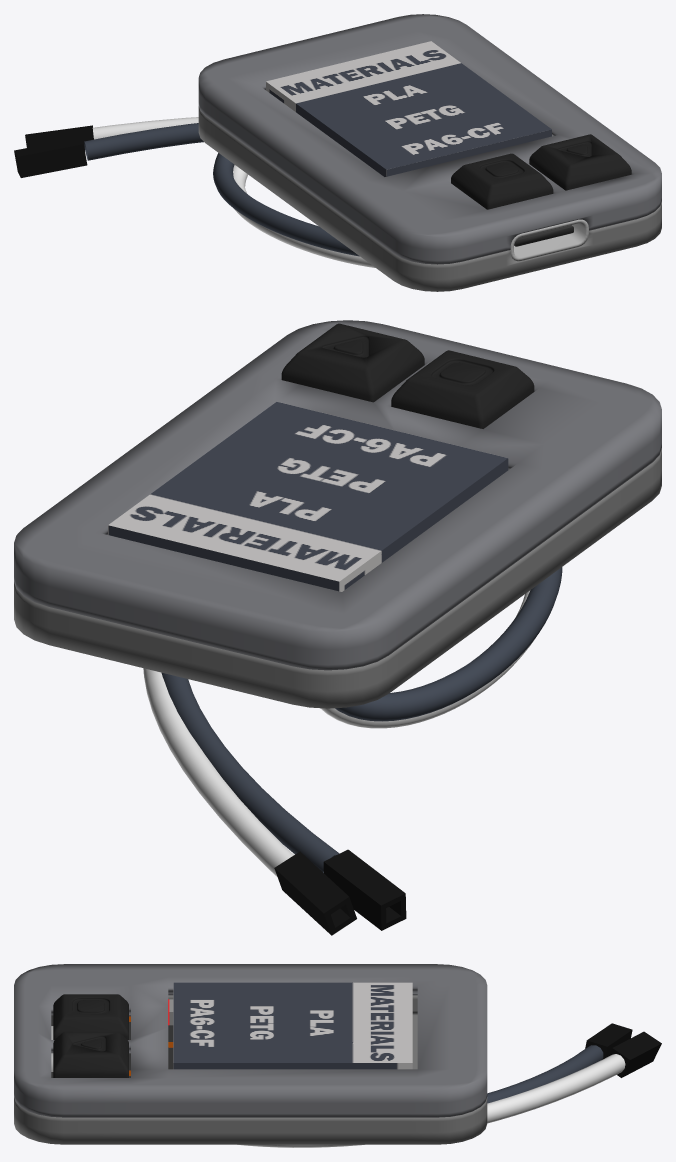
File: miniDevicee.glb
3 views of the same model, one above another, from view 1: azimuth 30°, elevation 25°; view 2: azimuth 150°, elevation 25°; view 3: azimuth 270°, elevation 25° (orthographic). The views are drawn at different scales.
Parts seen in each view (by area): view 1: topCover.001, display, bottomCover, NurbsPath.001, buttomEnter, buttomSelect, NurbsPath, usbC, Cube, Cube.001; view 2: topCover.001, display, bottomCover, NurbsPath.001, NurbsPath, buttomSelect, buttomEnter, Cube, Cube.001; view 3: topCover.001, display, bottomCover, buttomSelect, NurbsPath, buttomEnter, NurbsPath.001, Cube.001, Cube, Cube.002.
Part boxes in pixels (bbox=[...]): topCover.001: bbox=[198, 14, 661, 264]; display: bbox=[266, 41, 551, 176]; bottomCover: bbox=[198, 106, 661, 291]; NurbsPath.001: bbox=[84, 123, 359, 256]; buttomEnter: bbox=[451, 153, 553, 209]; buttomSelect: bbox=[529, 134, 631, 190]; NurbsPath: bbox=[92, 117, 375, 267]; usbC: bbox=[510, 219, 588, 261]; Cube: bbox=[14, 137, 87, 177]; Cube.001: bbox=[25, 125, 93, 150]; topCover.001: bbox=[14, 320, 661, 670]; display: bbox=[108, 402, 508, 591]; bottomCover: bbox=[14, 448, 661, 708]; NurbsPath.001: bbox=[161, 567, 562, 872]; NurbsPath: bbox=[143, 590, 535, 876]; buttomSelect: bbox=[281, 323, 424, 402]; buttomEnter: bbox=[391, 350, 534, 428]; Cube: bbox=[323, 849, 406, 930]; Cube.001: bbox=[274, 851, 356, 935]; topCover.001: bbox=[14, 964, 487, 1117]; display: bbox=[173, 982, 412, 1069]; bottomCover: bbox=[14, 995, 487, 1144]; buttomSelect: bbox=[53, 1032, 128, 1077]; NurbsPath: bbox=[237, 1054, 625, 1147]; buttomEnter: bbox=[53, 994, 128, 1039]; NurbsPath.001: bbox=[487, 1045, 603, 1103]; Cube.001: bbox=[608, 1031, 661, 1077]; Cube: bbox=[585, 1023, 632, 1059]; Cube.002: bbox=[51, 1015, 173, 1077].
Bounding box in the file's own units: 4.15 × 1.64 × 6.5.
Materials: 13 (2 with a texture image).
